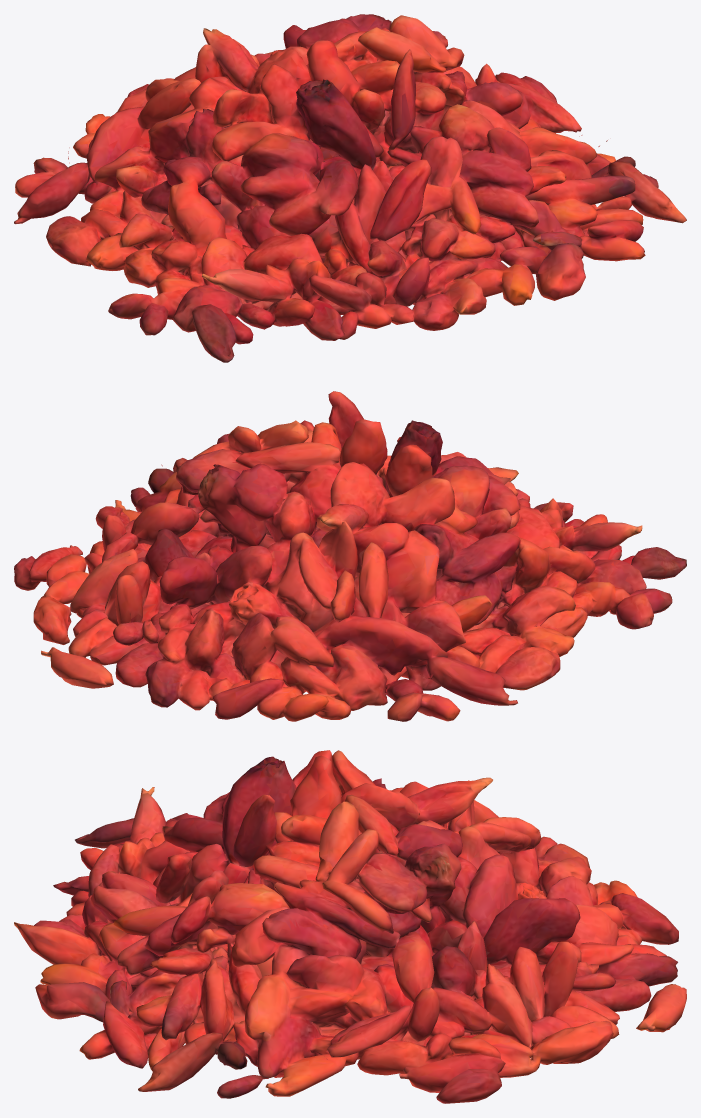
The model's file is goji.glb.
The picture shows the model from 3 angles, top to bottom: view 1: azimuth 30°, elevation 25°; view 2: azimuth 150°, elevation 25°; view 3: azimuth 270°, elevation 25°; orthographic projection. The views are drawn at different scales.
Visible parts, largest first — view 1: Meshy_AI_Dried_goji_berries_0528200636_texture; view 2: Meshy_AI_Dried_goji_berries_0528200636_texture; view 3: Meshy_AI_Dried_goji_berries_0528200636_texture.
Boxes of the visible parts, x1,y1,x2,y2 form: Meshy_AI_Dried_goji_berries_0528200636_texture: (14,14,686,362); Meshy_AI_Dried_goji_berries_0528200636_texture: (14,391,686,721); Meshy_AI_Dried_goji_berries_0528200636_texture: (14,750,686,1103).
Size of the model in its own units: 1.87 by 0.6129 by 1.9.
Materials: 1 (1 with a texture image).
